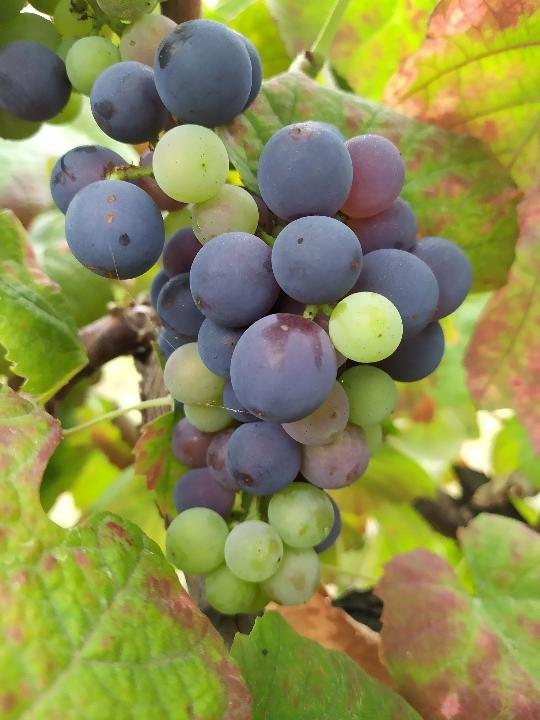grape: (148, 118, 476, 618)
